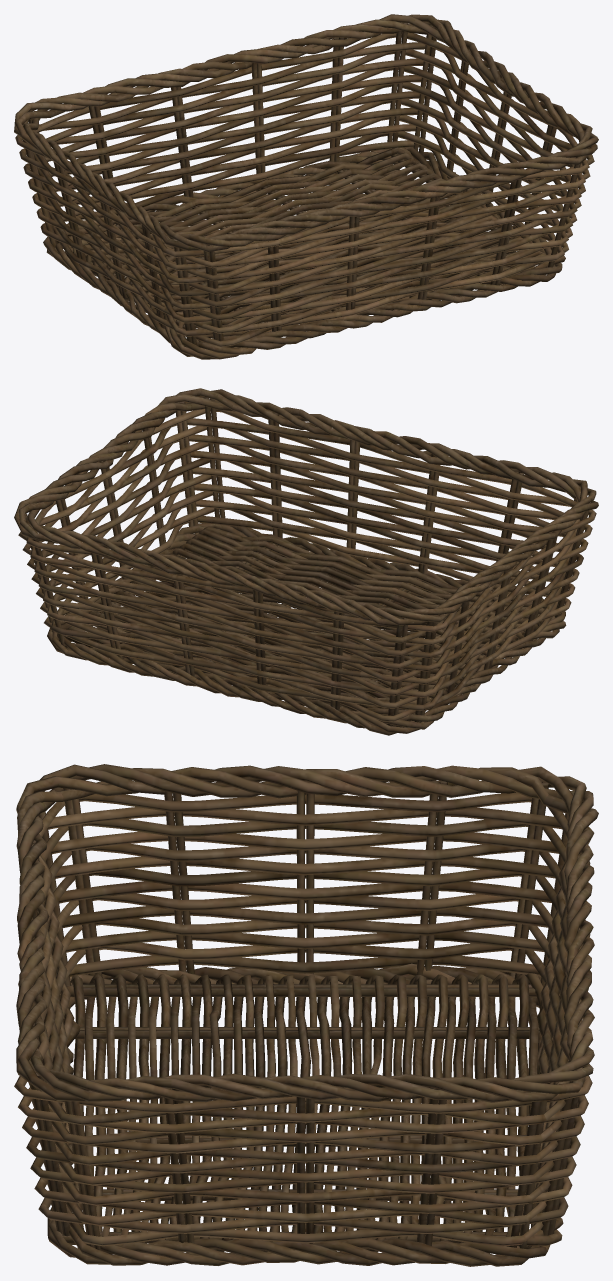
File: wicker_basket_01.glb
The picture shows the model from 3 angles, top to bottom: view 1: azimuth 30°, elevation 25°; view 2: azimuth 150°, elevation 25°; view 3: azimuth 270°, elevation 25°; orthographic projection. The views are drawn at different scales.
Visible parts, largest first — view 1: wicker_basket_01; view 2: wicker_basket_01; view 3: wicker_basket_01.
Boxes of the visible parts, bbox=[...] form: wicker_basket_01: bbox=[14, 14, 598, 359]; wicker_basket_01: bbox=[14, 388, 598, 735]; wicker_basket_01: bbox=[14, 764, 598, 1266].
Bounding box in the file's own units: 0.3832 × 0.1174 × 0.295.
Materials: 1 (1 with a texture image).
